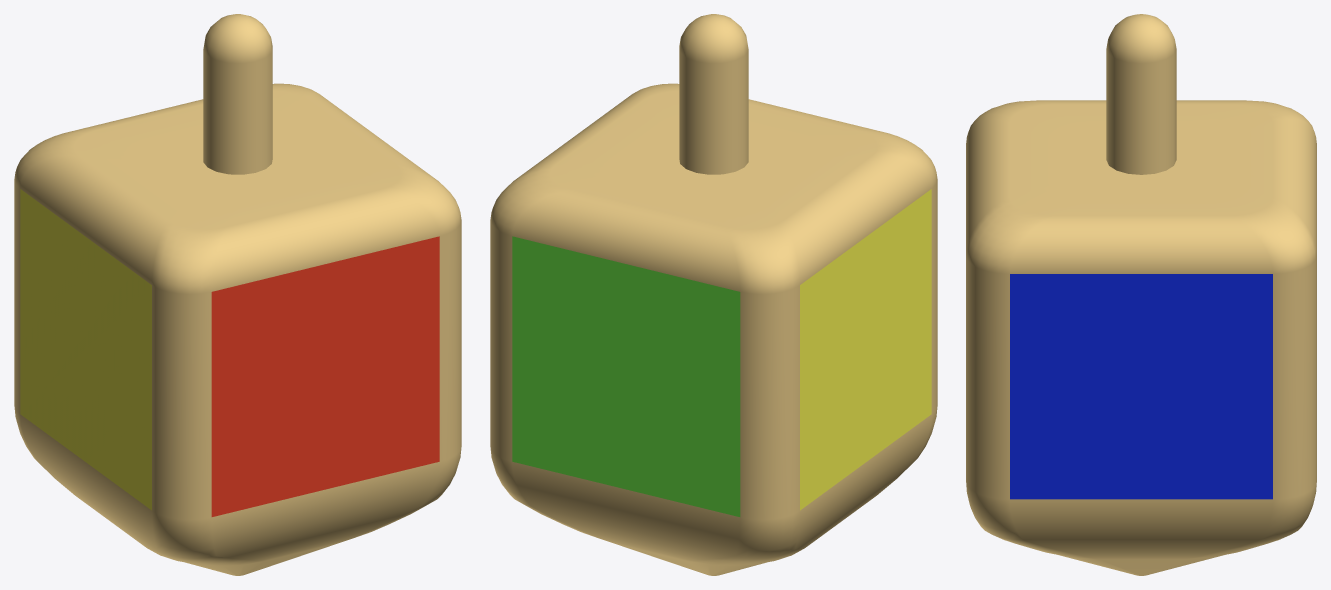
Rendered from spinner.glb.
3 renders of one model, left to right at view 1: azimuth 30°, elevation 25°; view 2: azimuth 150°, elevation 25°; view 3: azimuth 270°, elevation 25°, orthographic.
Visible parts, largest first — view 1: Spinner; view 2: Spinner; view 3: Spinner.
Boxes of the visible parts, x1,y1,x2,y2 form: Spinner: (14,14,461,575); Spinner: (490,14,937,575); Spinner: (966,14,1316,575).
Size of the model in its own units: 2 by 3.5 by 2.
3 materials, 1 textured.
